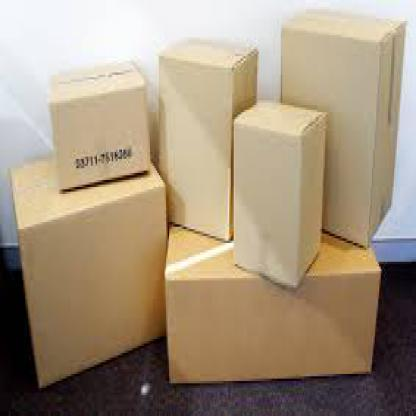CARDBOARD: (7, 150, 165, 388), (163, 210, 381, 381), (281, 12, 404, 245), (156, 37, 256, 241), (232, 98, 324, 285), (46, 54, 148, 187)
